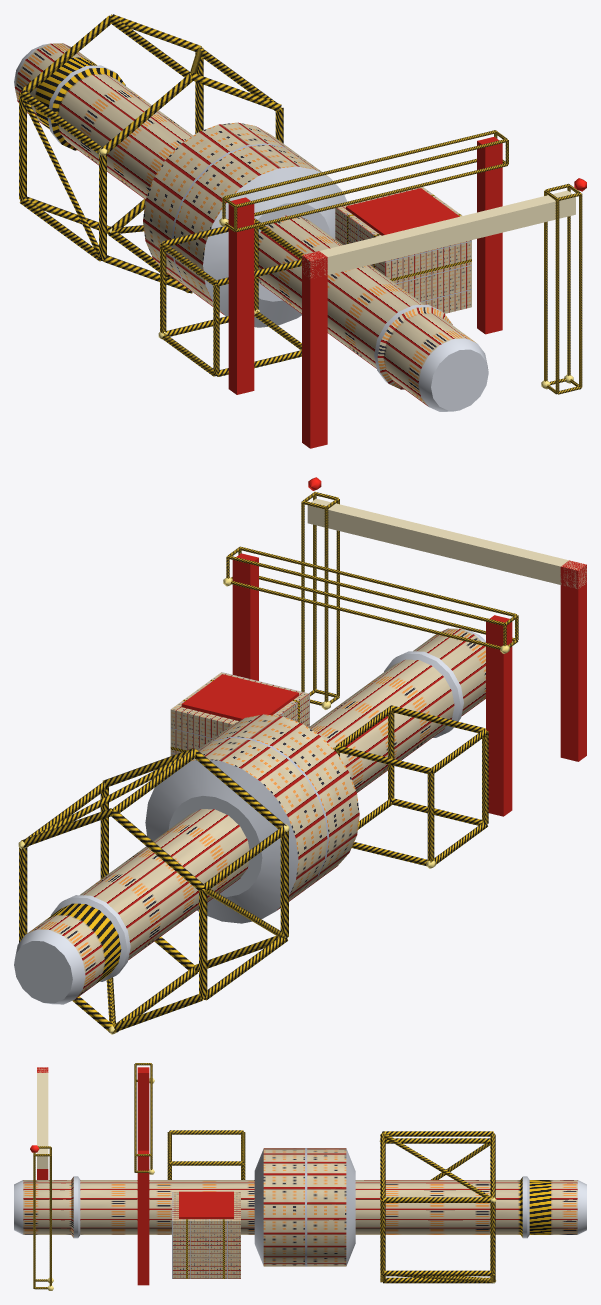
Rendered from manufacturing_center_build2.obj.
3 views of the same model, one above another, from view 1: azimuth 30°, elevation 25°; view 2: azimuth 150°, elevation 25°; view 3: azimuth 270°, elevation 25° (orthographic). The views are drawn at different scales.
Visible parts, largest first — view 1: spine, girder, smelter2, gantry_leg, gantry_beam, cargo_bay, post, bay_door, brace; view 2: spine, smelter2, girder, gantry_leg, gantry_beam, post, bay_door, cargo_bay, brace; view 3: spine, smelter2, girder, cargo_bay, post, gantry_leg, bay_door, brace, gantry_beam.
Boxes of the visible parts, <box> form: spine: <box>14,43,488,411</box>; girder: <box>19,14,582,394</box>; smelter2: <box>143,122,346,327</box>; gantry_leg: <box>228,136,502,448</box>; gantry_beam: <box>302,190,575,277</box>; cargo_bay: <box>335,187,471,313</box>; post: <box>19,14,281,292</box>; bay_door: <box>346,188,459,235</box>; brace: <box>21,47,202,258</box>; spine: <box>14,628,485,1004</box>; smelter2: <box>145,714,359,923</box>; girder: <box>19,492,518,1033</box>; gantry_leg: <box>232,553,586,816</box>; gantry_beam: <box>307,498,586,588</box>; post: <box>26,748,287,1032</box>; bay_door: <box>181,674,298,720</box>; cargo_bay: <box>170,672,309,755</box>; brace: <box>32,751,286,1024</box>; spine: <box>14,1176,586,1238</box>; smelter2: <box>254,1148,355,1266</box>; girder: <box>33,1063,495,1289</box>; cargo_bay: <box>172,1192,240,1278</box>; post: <box>383,1131,492,1283</box>; gantry_leg: <box>37,1067,149,1285</box>; bay_door: <box>179,1191,233,1218</box>; brace: <box>383,1132,492,1282</box>; gantry_beam: <box>37,1067,48,1168</box>.
Size of the model in its own units: 96.73 by 88.47 by 250.
7 materials, 2 textured.
